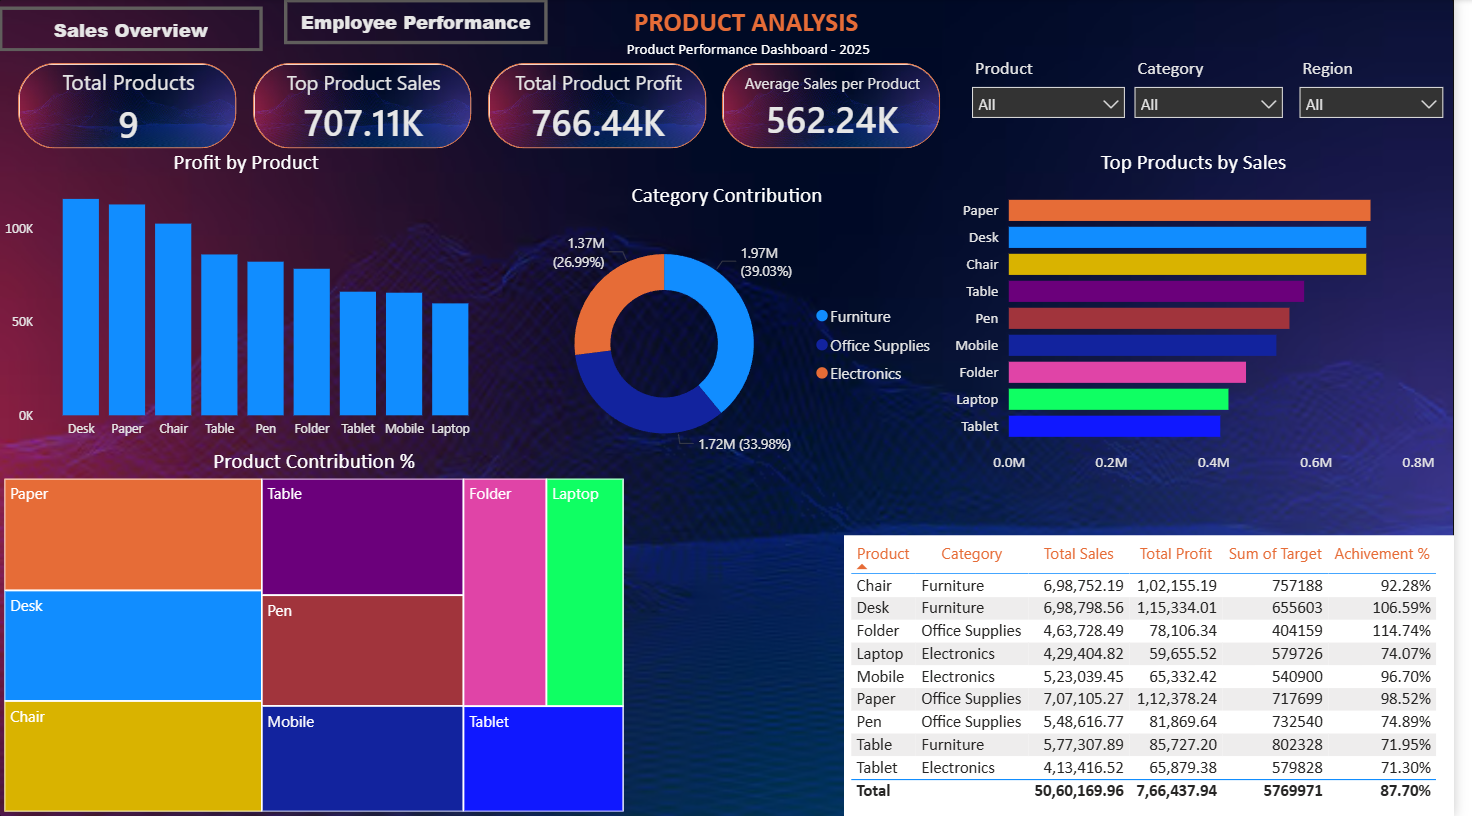

What the dashboard file says about the page in this screenshot:
{"tool":"powerbi","page":{"name":"Product Analysis","canvas":[1280,720],"ordinal":2},"visuals":[{"type":"textbox","box":[321.1,0,672.4,57.6],"z":0},{"type":"cardVisual","fields":{"Data":["SalesData.Total Products"]},"box":[0,39.8,226.4,109.8],"z":1000},{"type":"cardVisual","fields":{"Data":["SalesData.Top Product Sales"]},"box":[207.2,39.8,226.4,109.8],"z":2000},{"type":"cardVisual","fields":{"Data":["SalesData.Total Product Profit"]},"box":[413,39.8,226.4,109.8],"z":3000},{"type":"cardVisual","fields":{"Data":["SalesData.Avg Product Sales"]},"box":[618.9,39.8,226.4,109.8],"z":4000},{"type":"clusteredBarChart","title":"Top Products by Sales","fields":{"Category":["SalesData.Product"],"Y":["SalesData.Total Sales"]},"box":[832.9,131.7,435,292.3],"z":5000},{"type":"clusteredColumnChart","title":"Profit by Product","fields":{"Category":["SalesData.Product"],"Y":["SalesData.Total Profit"]},"box":[0,131.7,435,263.5],"z":6000},{"type":"donutChart","title":"Category Contribution","fields":{"Category":["SalesData.Category"],"Y":["SalesData.Total Sales"]},"box":[447.3,160.5,385.6,263.5],"z":7000},{"type":"treemap","title":"Product Contribution %","fields":{"Values":["SalesData.Total Sales"],"Group":["SalesData.Product"]},"box":[0,395.2,554.4,325.2],"z":8000},{"type":"tableEx","title":"Employee VS Traget","fields":{"Values":["SalesData.Product","SalesData.Category","SalesData.Total Sales","SalesData.Total Profit","Sum(SalesData.Target)","SalesData.Achivement %"]},"box":[743.7,472,536.5,248.4],"z":10000},{"type":"slicer","fields":{"Values":["SalesData.Product"]},"box":[845.3,46.7,155.1,85.1],"z":11000},{"type":"slicer","fields":{"Values":["SalesData.Category"]},"box":[988,46.7,150.9,85.1],"z":12000},{"type":"slicer","fields":{"Values":["SalesData.Region"]},"box":[1133.5,46.7,146.8,85.1],"z":13000},{"type":"actionButton","box":[0,6.6,232,39.6],"z":14000},{"type":"actionButton","box":[251.1,0,231.9,39.8],"z":15000}]}

Visuals, with their boxes in screenshot pixels (x1, y1, x2, y2), scaled from the page's 1280x720 canvas onto the 1472x816 screenshot:
textbox: [369,0,1143,65]
cardVisual - SalesData.Total Products: [0,45,260,170]
cardVisual - SalesData.Top Product Sales: [238,45,499,170]
cardVisual - SalesData.Total Product Profit: [475,45,735,170]
cardVisual - SalesData.Avg Product Sales: [712,45,972,170]
"Top Products by Sales" clusteredBarChart: [958,149,1458,481]
"Profit by Product" clusteredColumnChart: [0,149,500,448]
"Category Contribution" donutChart: [514,182,958,481]
"Product Contribution %" treemap: [0,448,638,815]
"Employee VS Traget" tableEx: [855,535,1471,815]
slicer - SalesData.Product: [972,53,1150,149]
slicer - SalesData.Category: [1136,53,1310,149]
slicer - SalesData.Region: [1304,53,1471,149]
actionButton: [0,7,267,52]
actionButton: [289,0,555,45]
